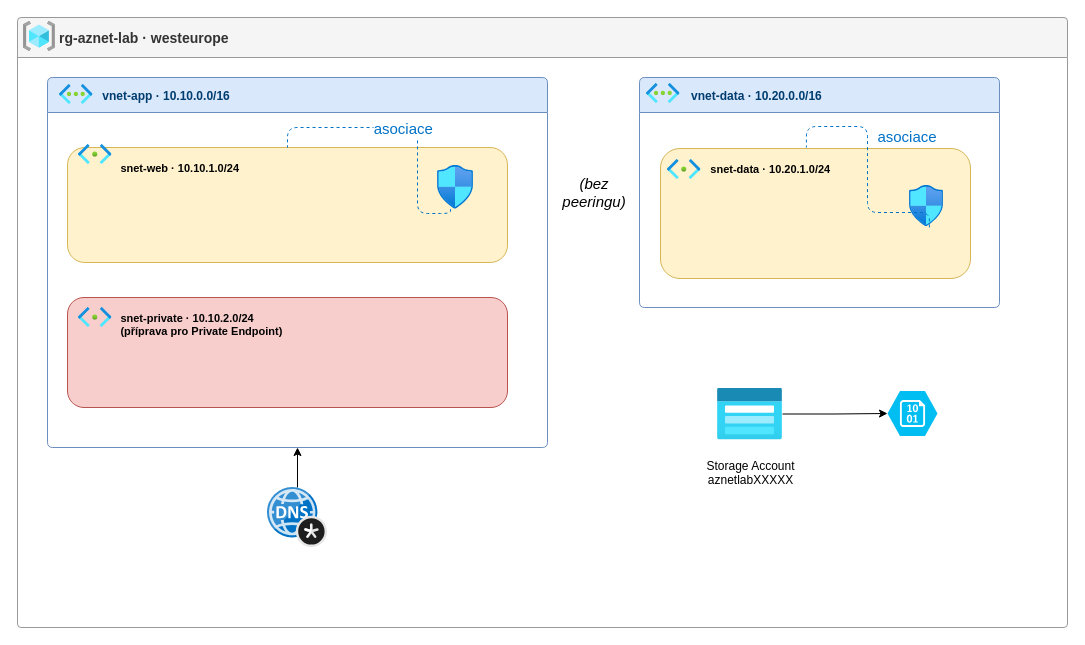
This 1085x645 diagram has some shape labels left out. Here are the shapes that lost their labels. From the top down, the centre of each, then its label:
pixel 455 187: nsg-web
pixel 926 205: nsg-data
pixel 912 413: Blob storage demo
pixel 297 517: Private DNS Zone privatelink.blob.core.windows.net
